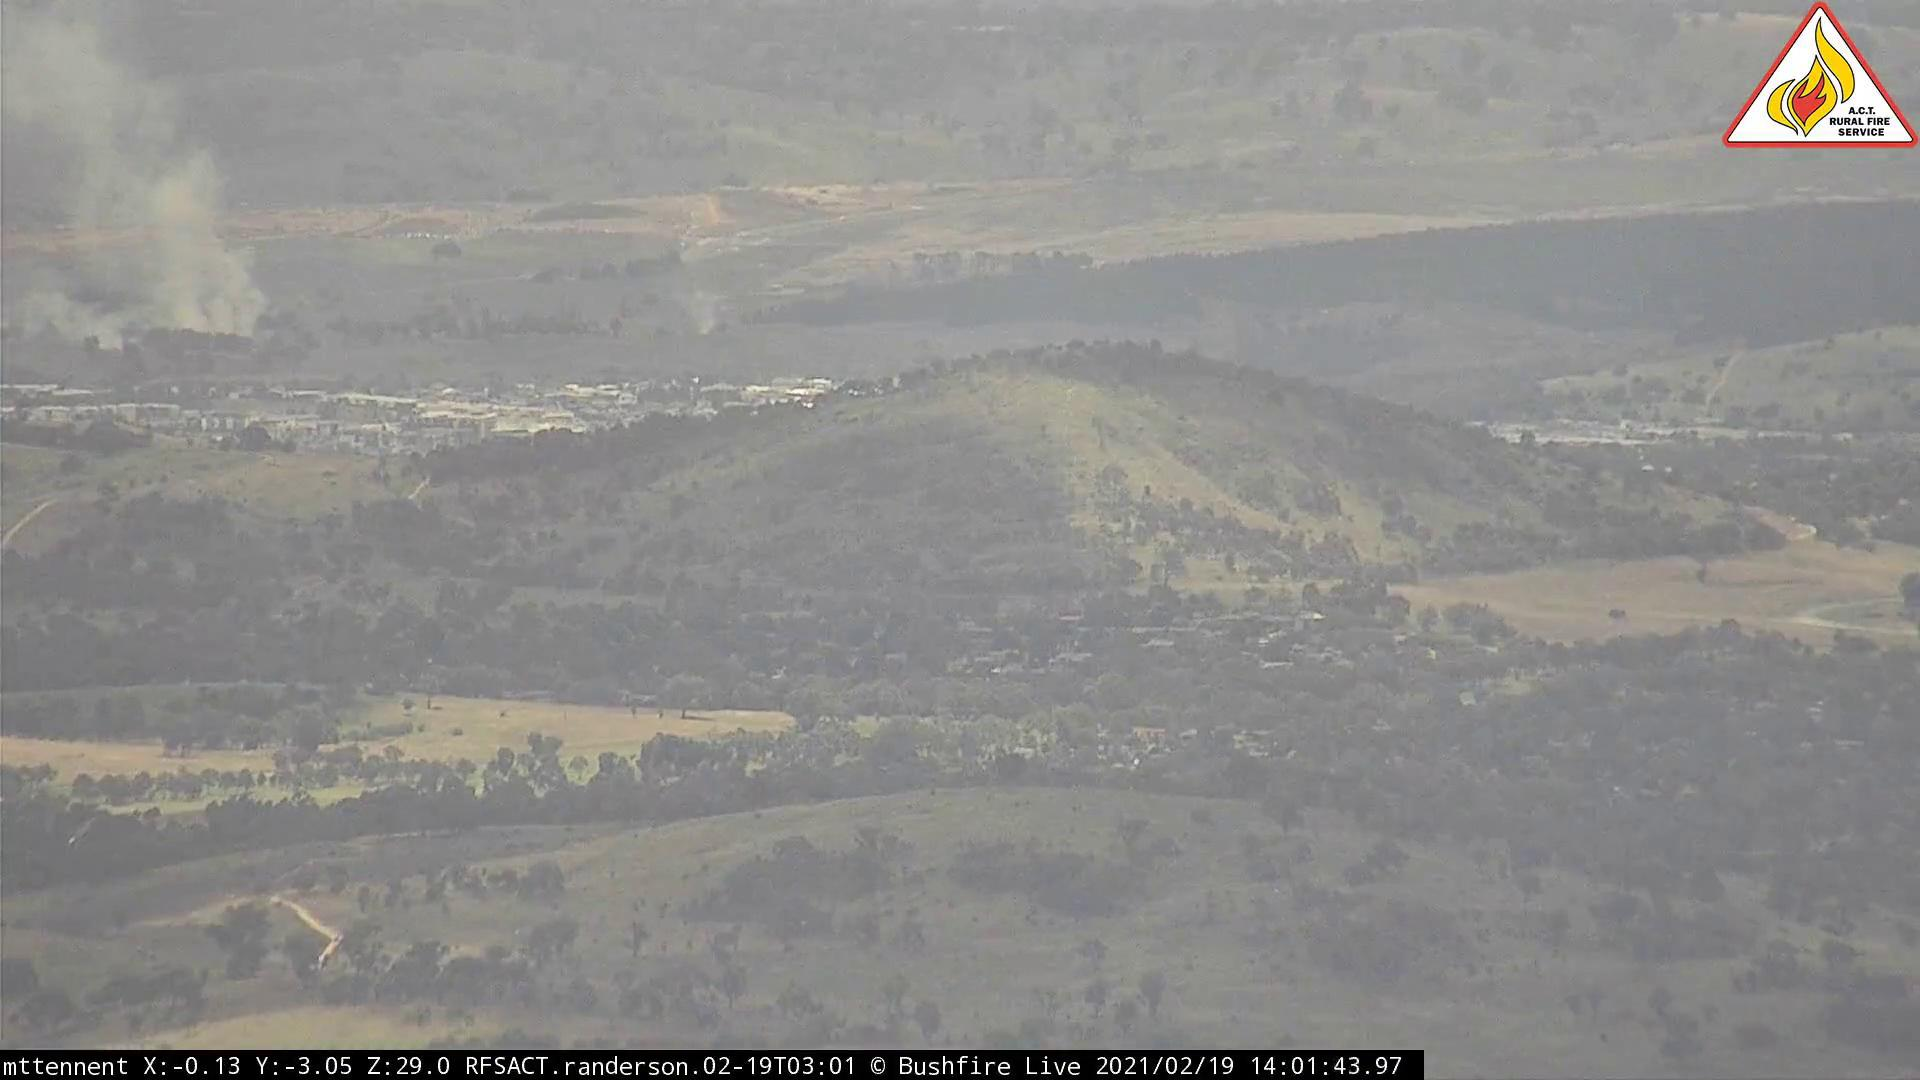instance_salient_object: (3, 3, 303, 347), (665, 243, 741, 345)
